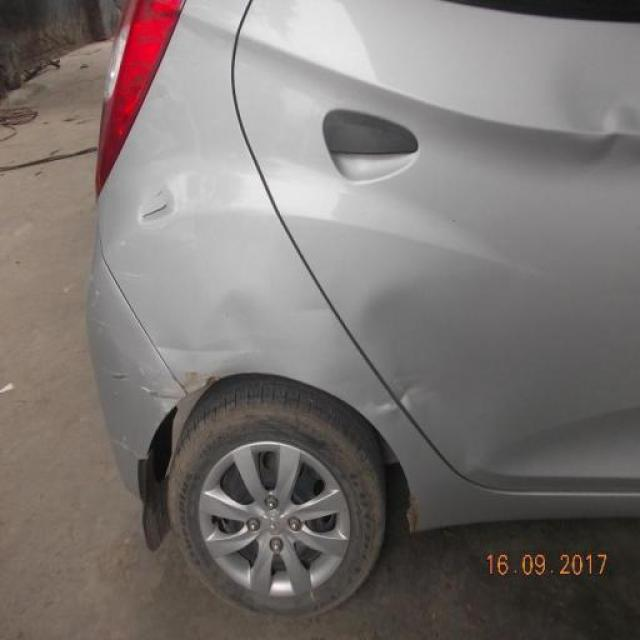dent: (107, 286, 273, 402), (578, 96, 638, 180), (368, 367, 427, 420), (137, 180, 172, 224)
